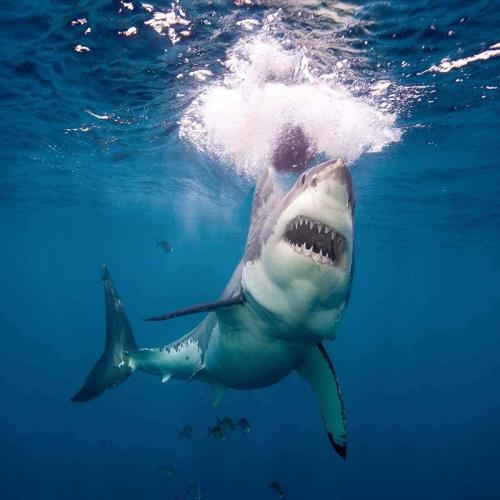shark-endangered: (203, 143, 371, 415)
